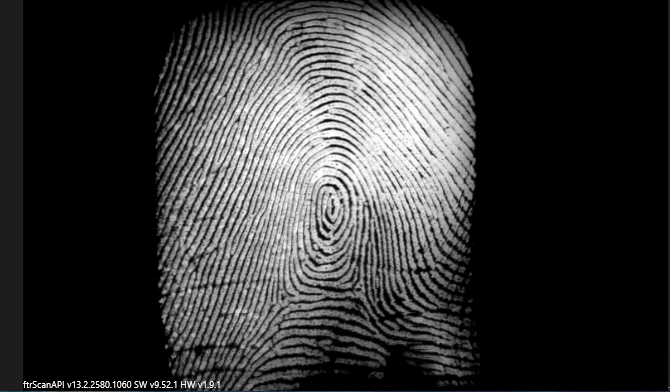nucelo: (313, 182, 347, 233)
verticilo: (268, 281, 297, 307), (348, 272, 369, 300)
